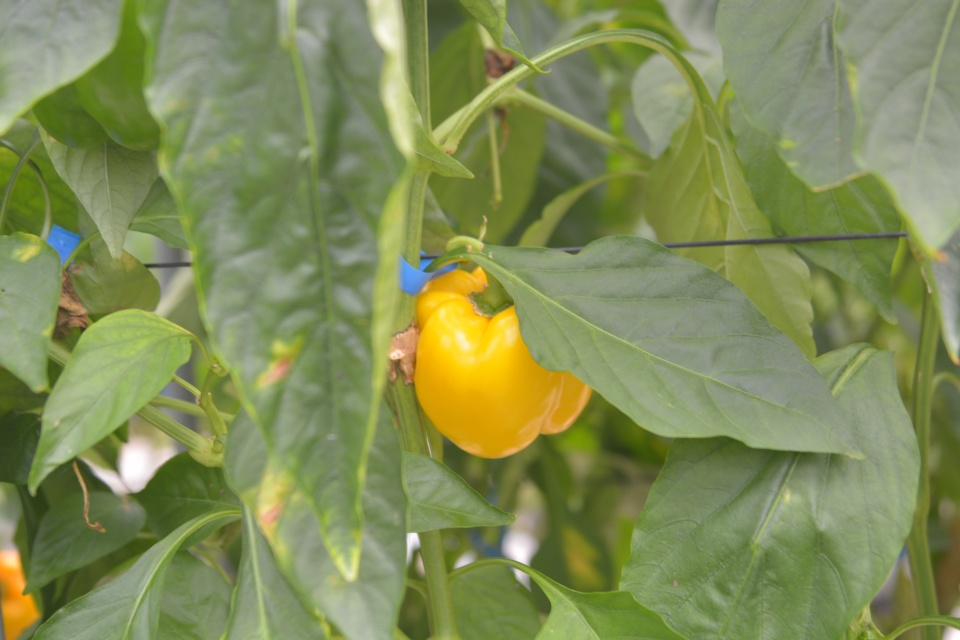fruit: (412, 262, 595, 462), (0, 544, 45, 640)
pedicle: (467, 283, 517, 317)
